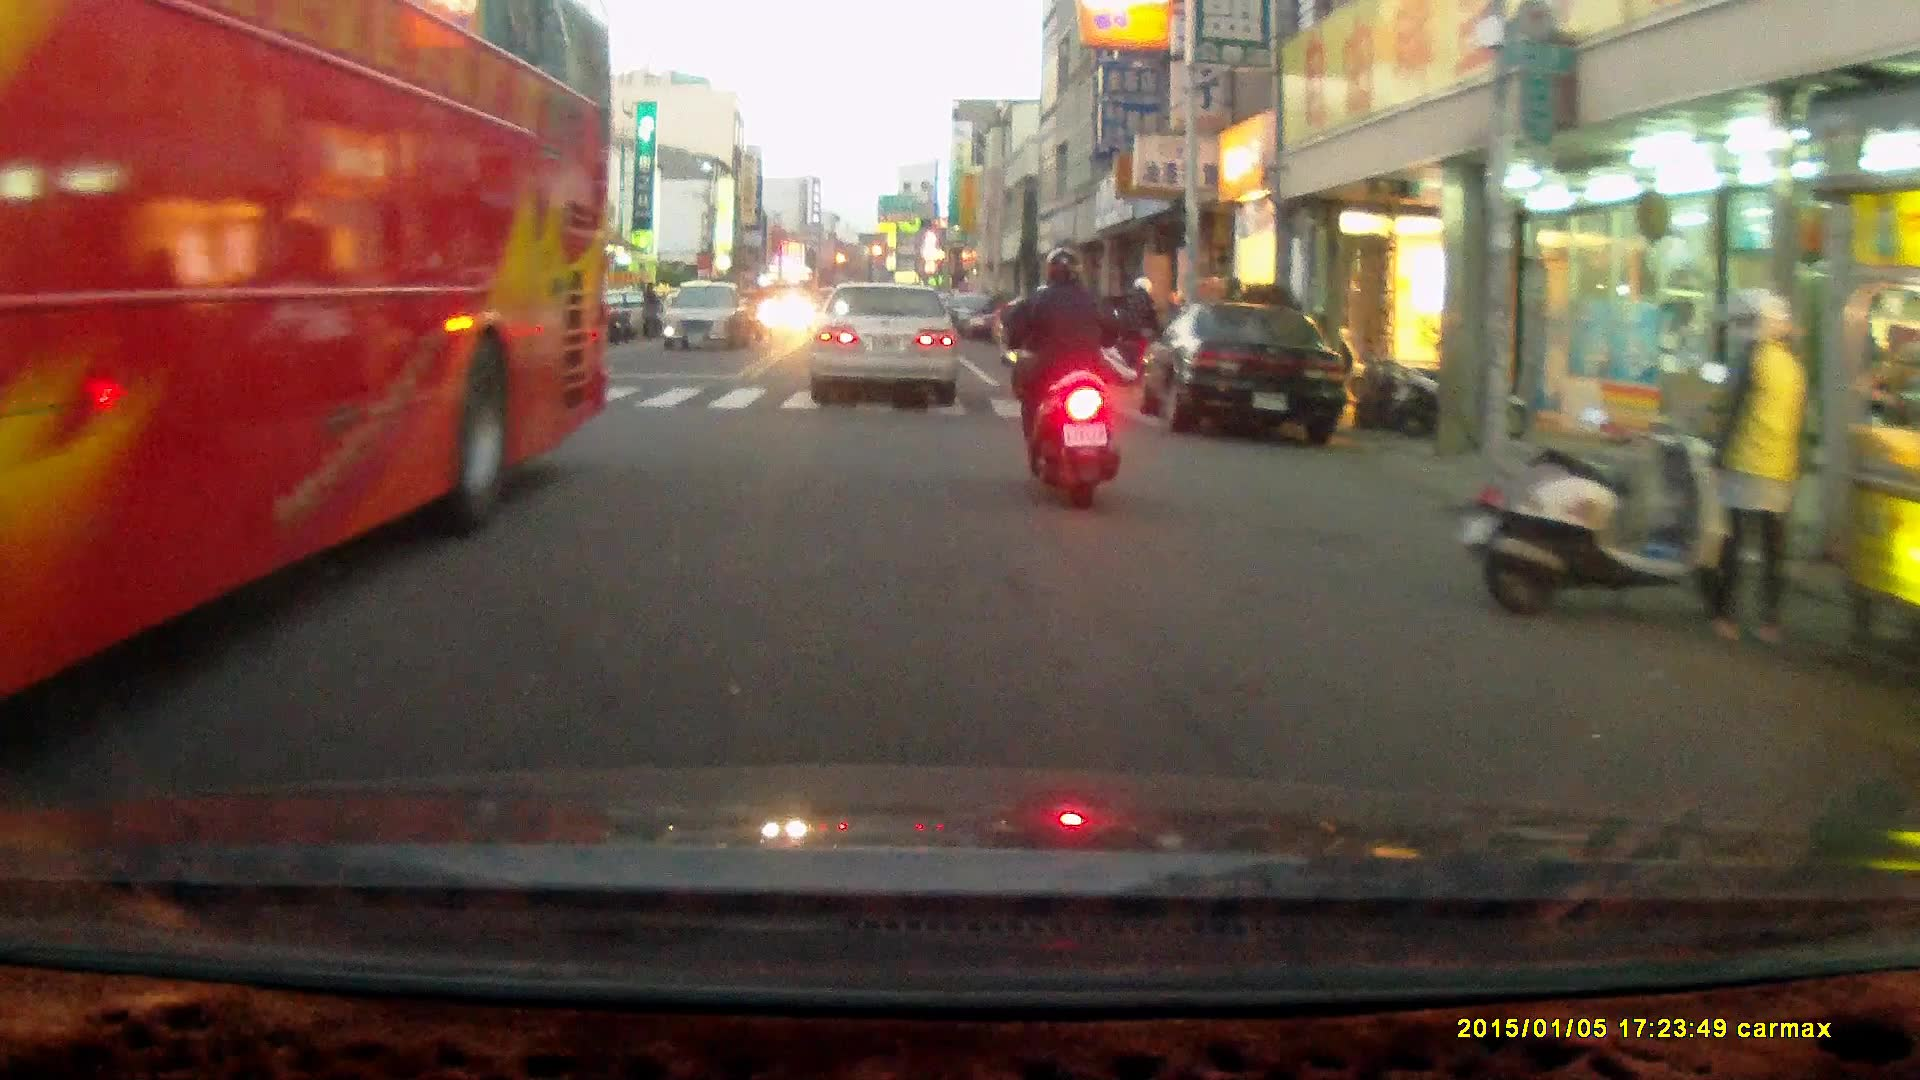pedestrian: (1697, 285, 1810, 646), (1126, 274, 1164, 394), (641, 278, 663, 343)
rider: (993, 243, 1119, 509)
vehicle: (1, 16, 616, 724), (1136, 302, 1360, 442), (811, 281, 961, 407), (657, 281, 754, 353)
